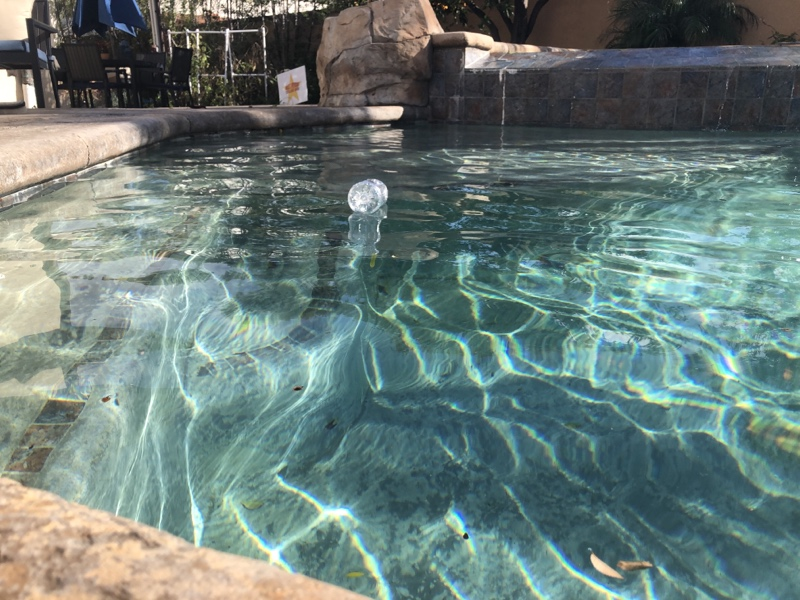Plastic Bottle: (346, 174, 390, 223)
